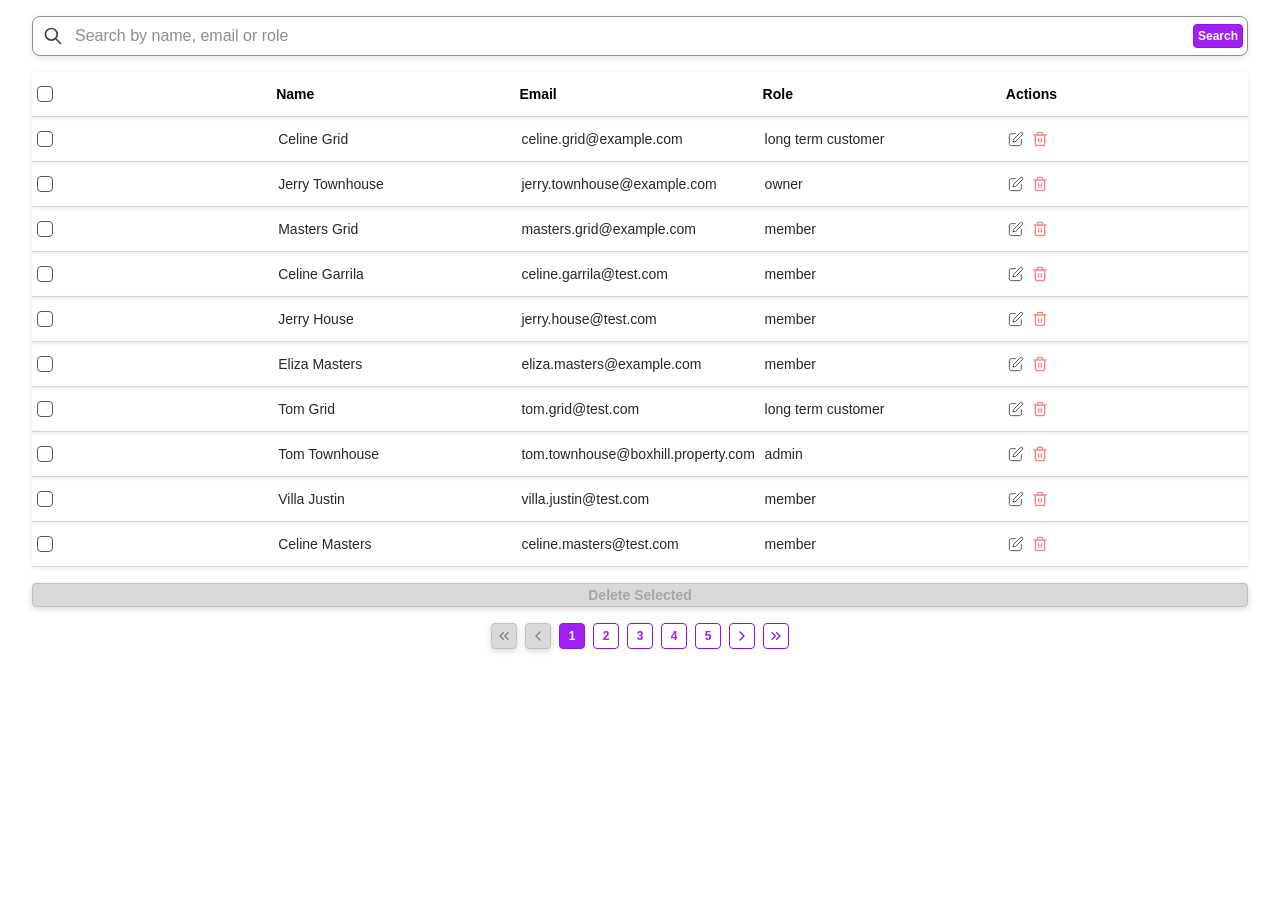
Test: Admin Card test › Admin Card action test › bulk delete test › when more than one page existing, delete on last page should go to previous page
This screenshot has width=1280, height=900.
Click the button with test id "pagination-last" at point(776, 636), box [763,623,789,649]
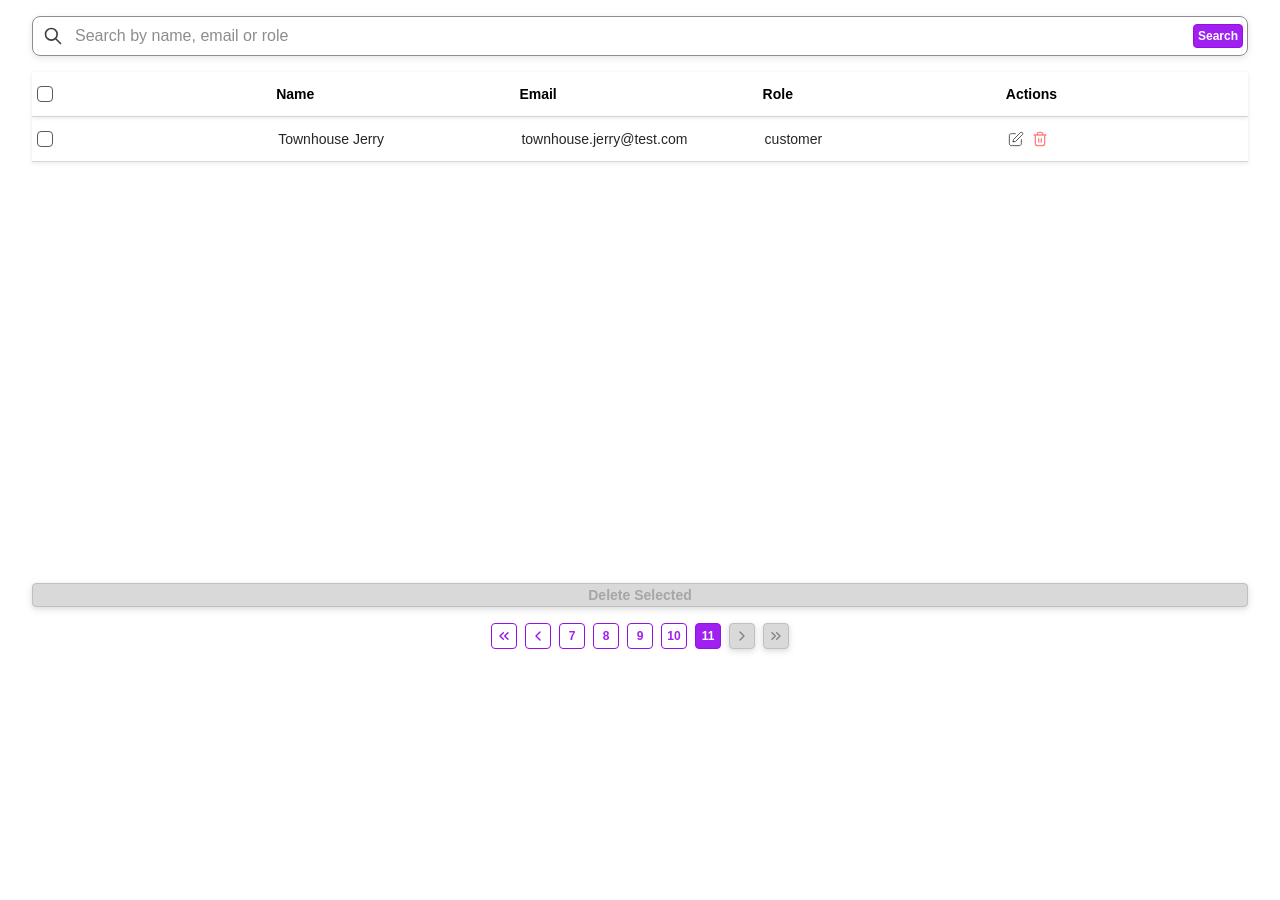
Expected: the button "11" is shown, [695,623,721,649]
Click the checkbox with test id "bulk-select" at point(45, 94), box [37,86,53,102]
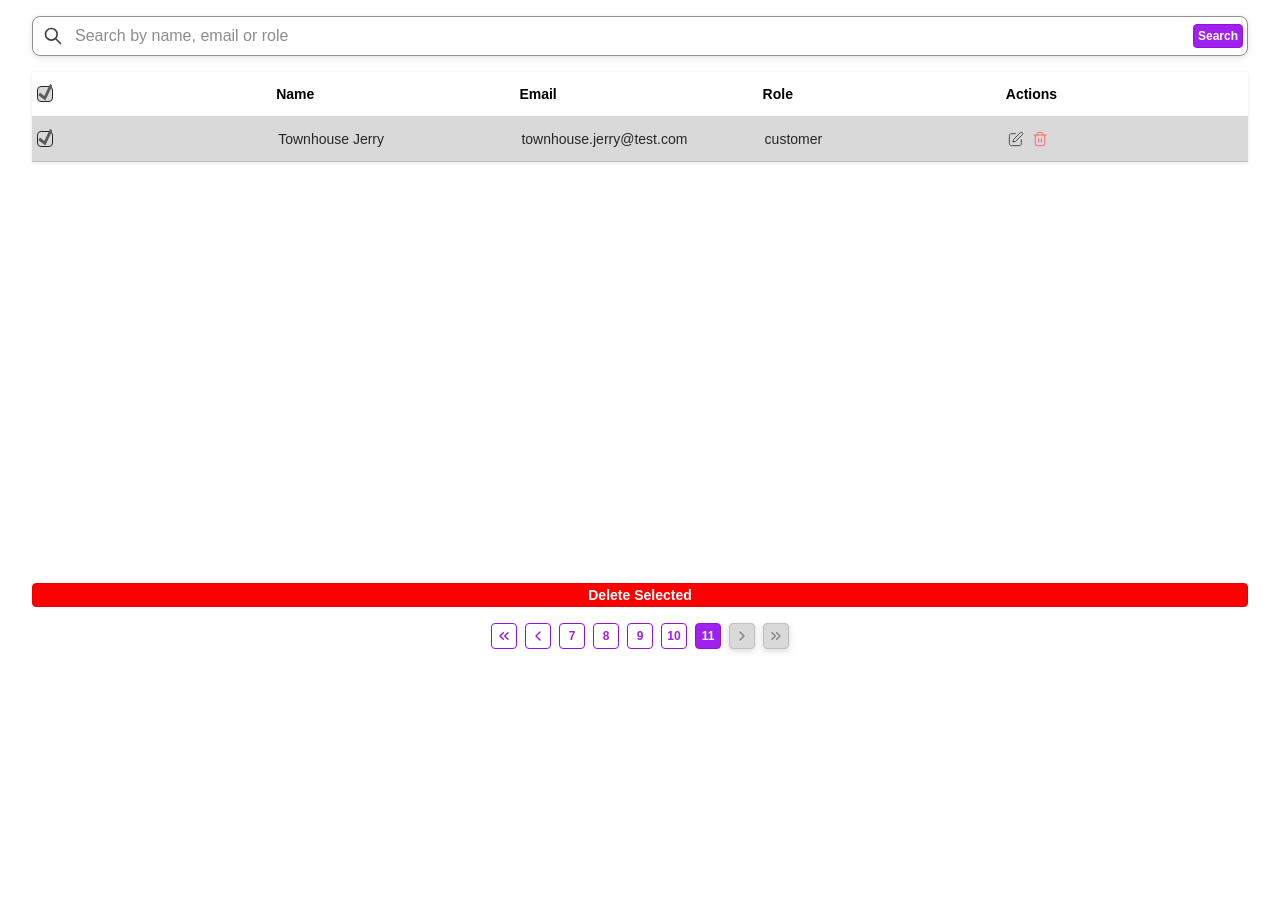
Note: click on bulk delete should trigger on User change
Click the button with test id "bulk-delete" at point(640, 595), box [32,583,1248,607]
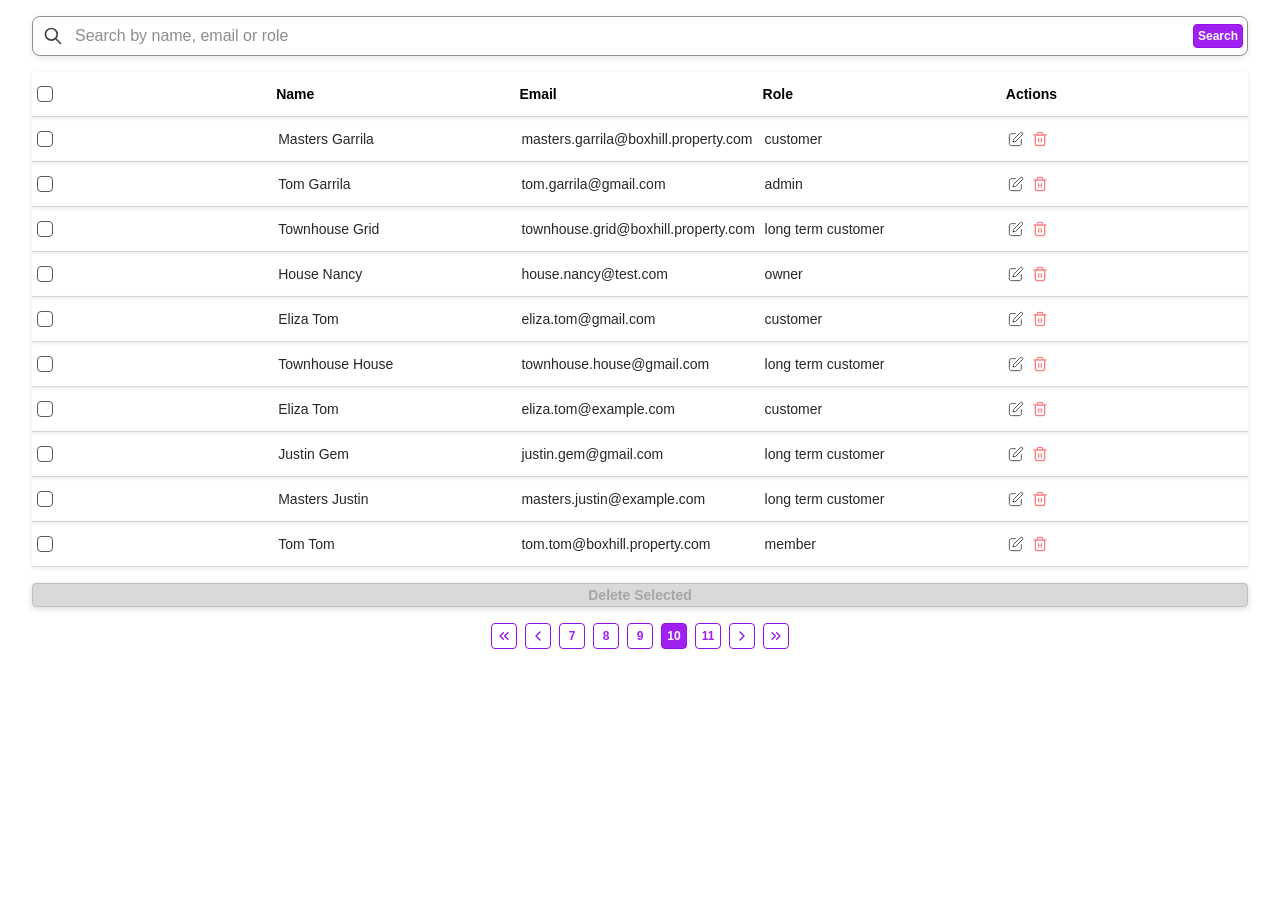
Expected: the button "10" is shown, [661,623,687,649]
